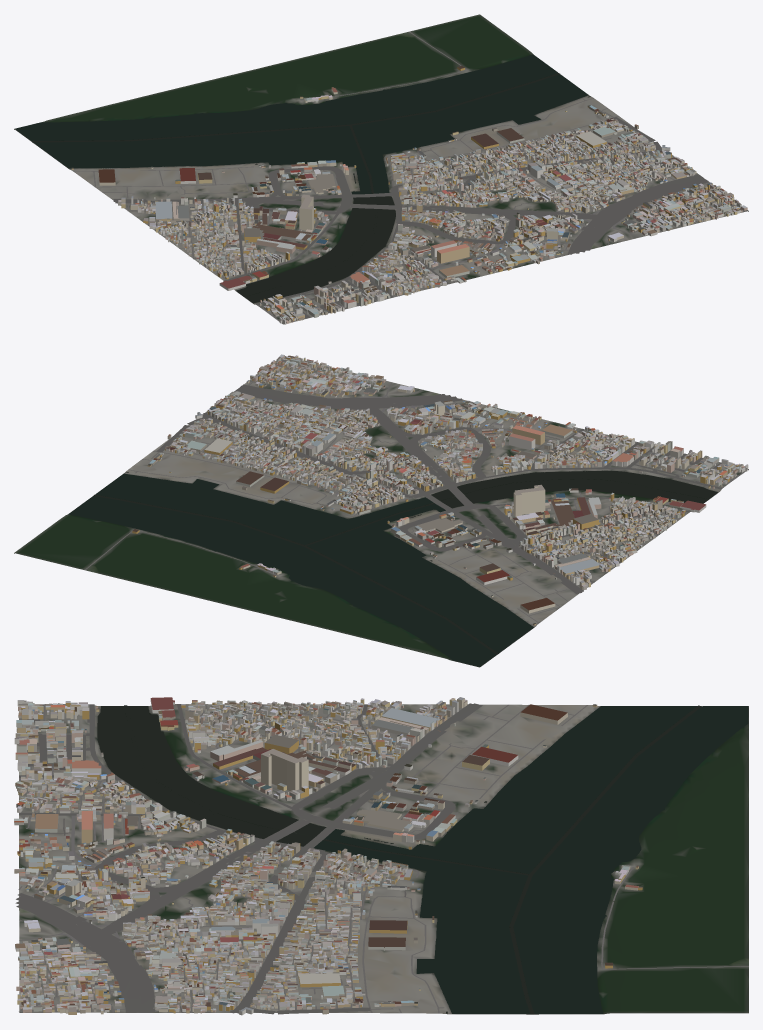
The picture shows the model from 3 angles, top to bottom: view 1: azimuth 30°, elevation 25°; view 2: azimuth 150°, elevation 25°; view 3: azimuth 270°, elevation 25°; orthographic projection. The views are drawn at different scales.
Visible parts, largest first — view 1: buildings, ground, water, roads; view 2: buildings, ground, water, roads; view 3: buildings, ground, water, roads.
Boxes of the visible parts, x1,y1,x2,y2 form: buildings: [71, 66, 747, 324]; ground: [14, 14, 748, 324]; water: [15, 54, 590, 303]; roads: [73, 31, 746, 321]; buildings: [132, 354, 748, 625]; ground: [14, 356, 748, 667]; water: [68, 470, 717, 666]; roads: [84, 356, 744, 623]; buildings: [14, 697, 642, 1015]; ground: [19, 704, 748, 1014]; water: [97, 705, 748, 1014]; roads: [15, 703, 748, 1014].
Size of the model in its own units: 1432 by 67.14 by 1410.
